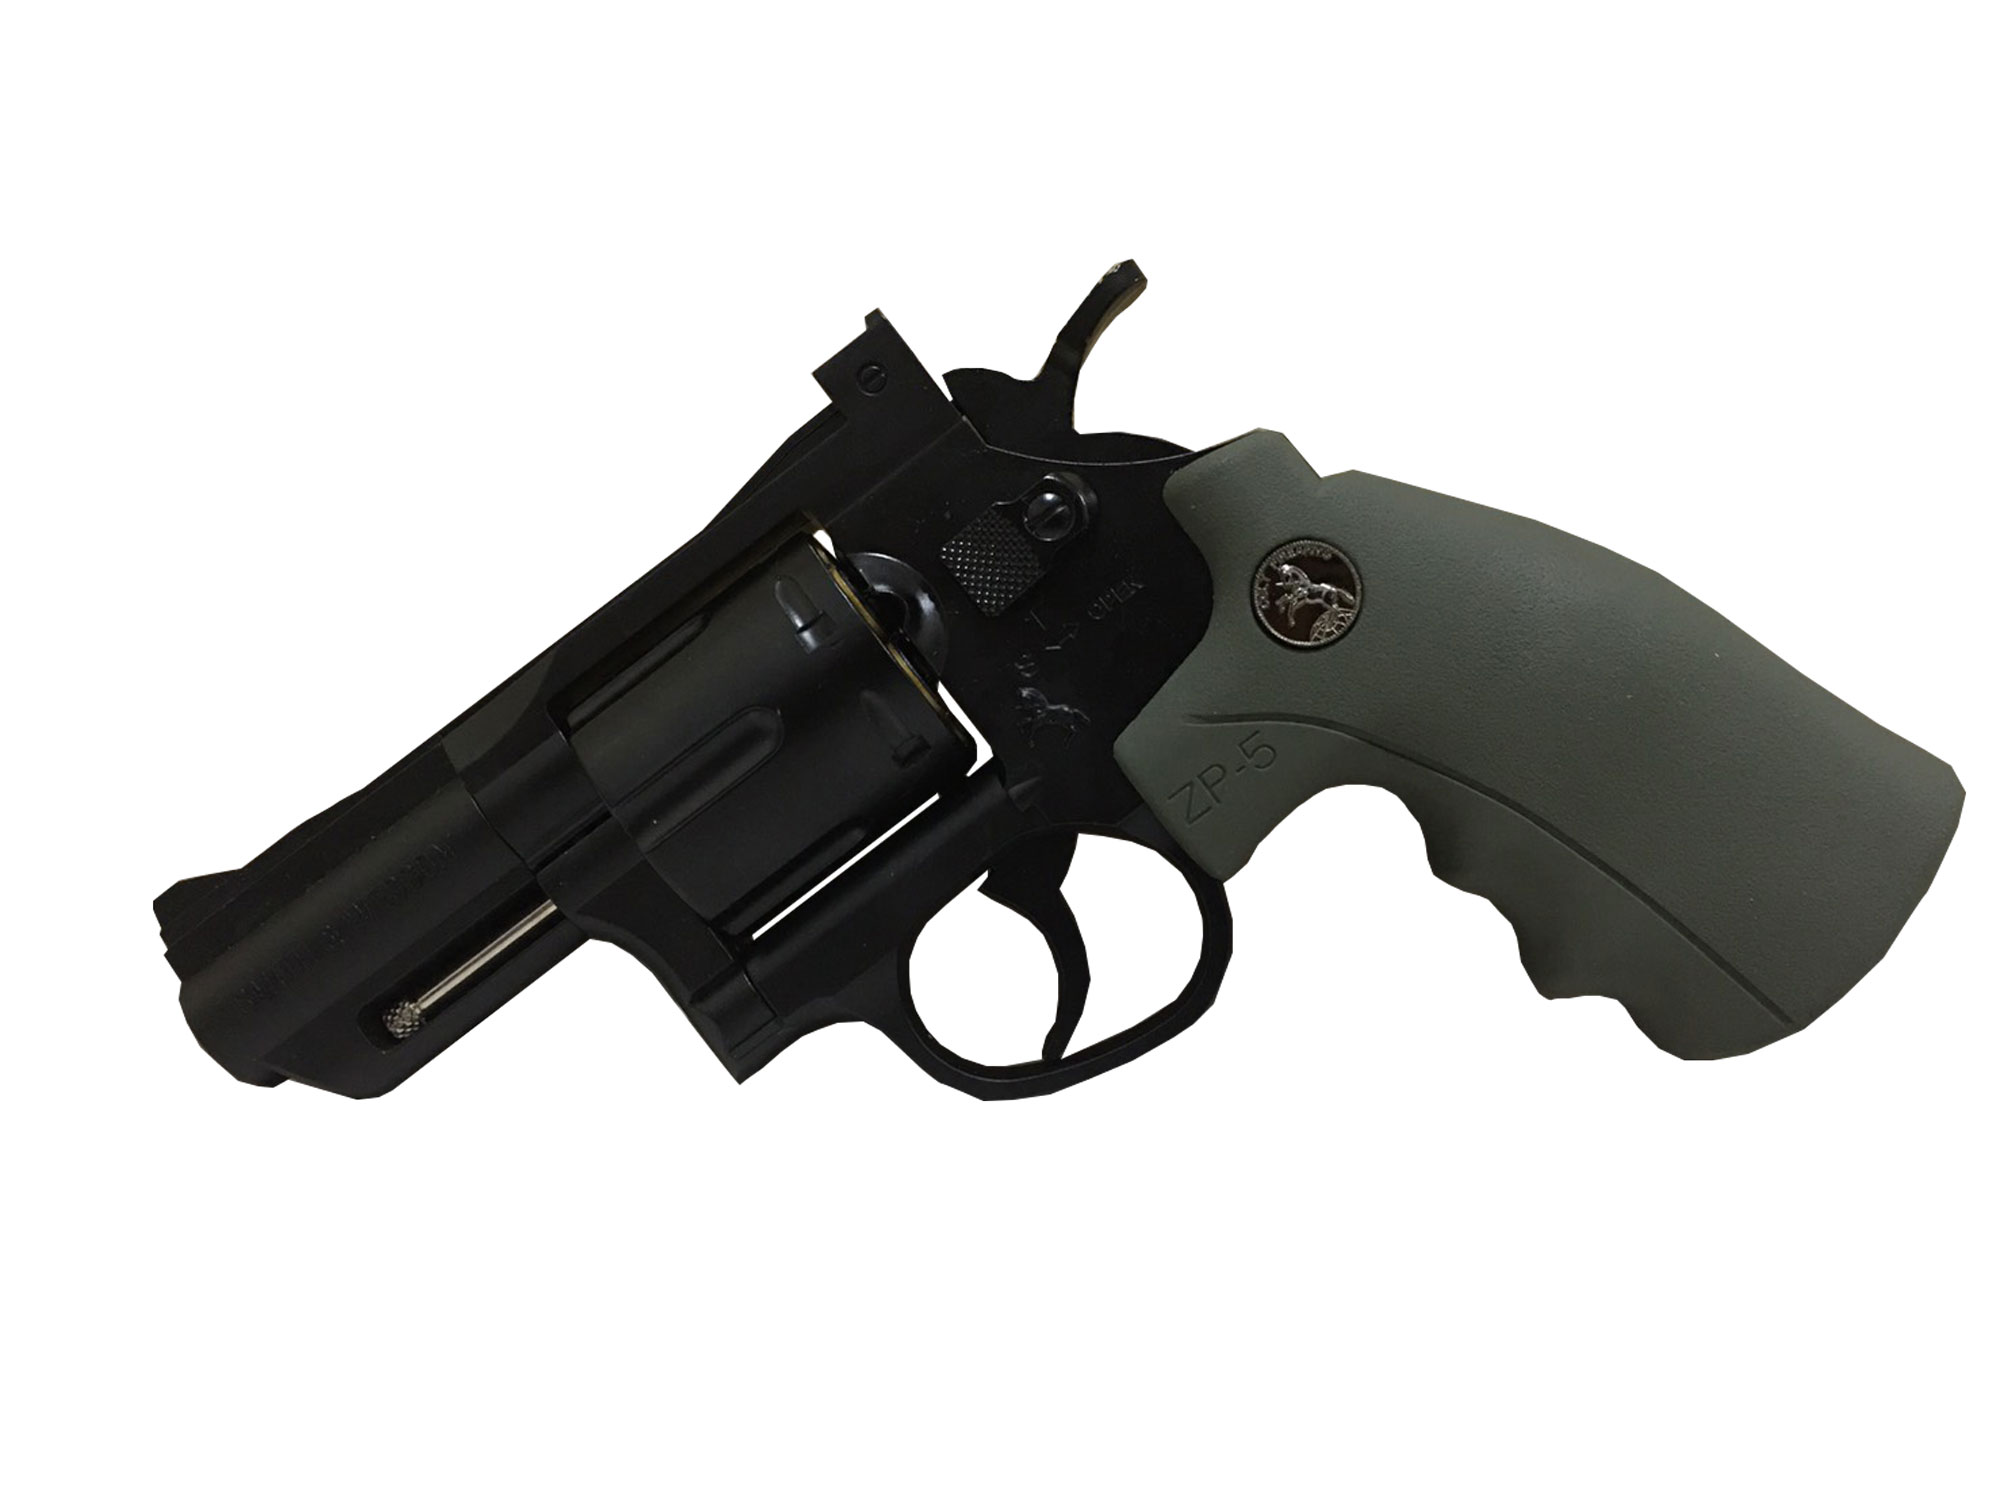gun: (109, 254, 1987, 1159)
